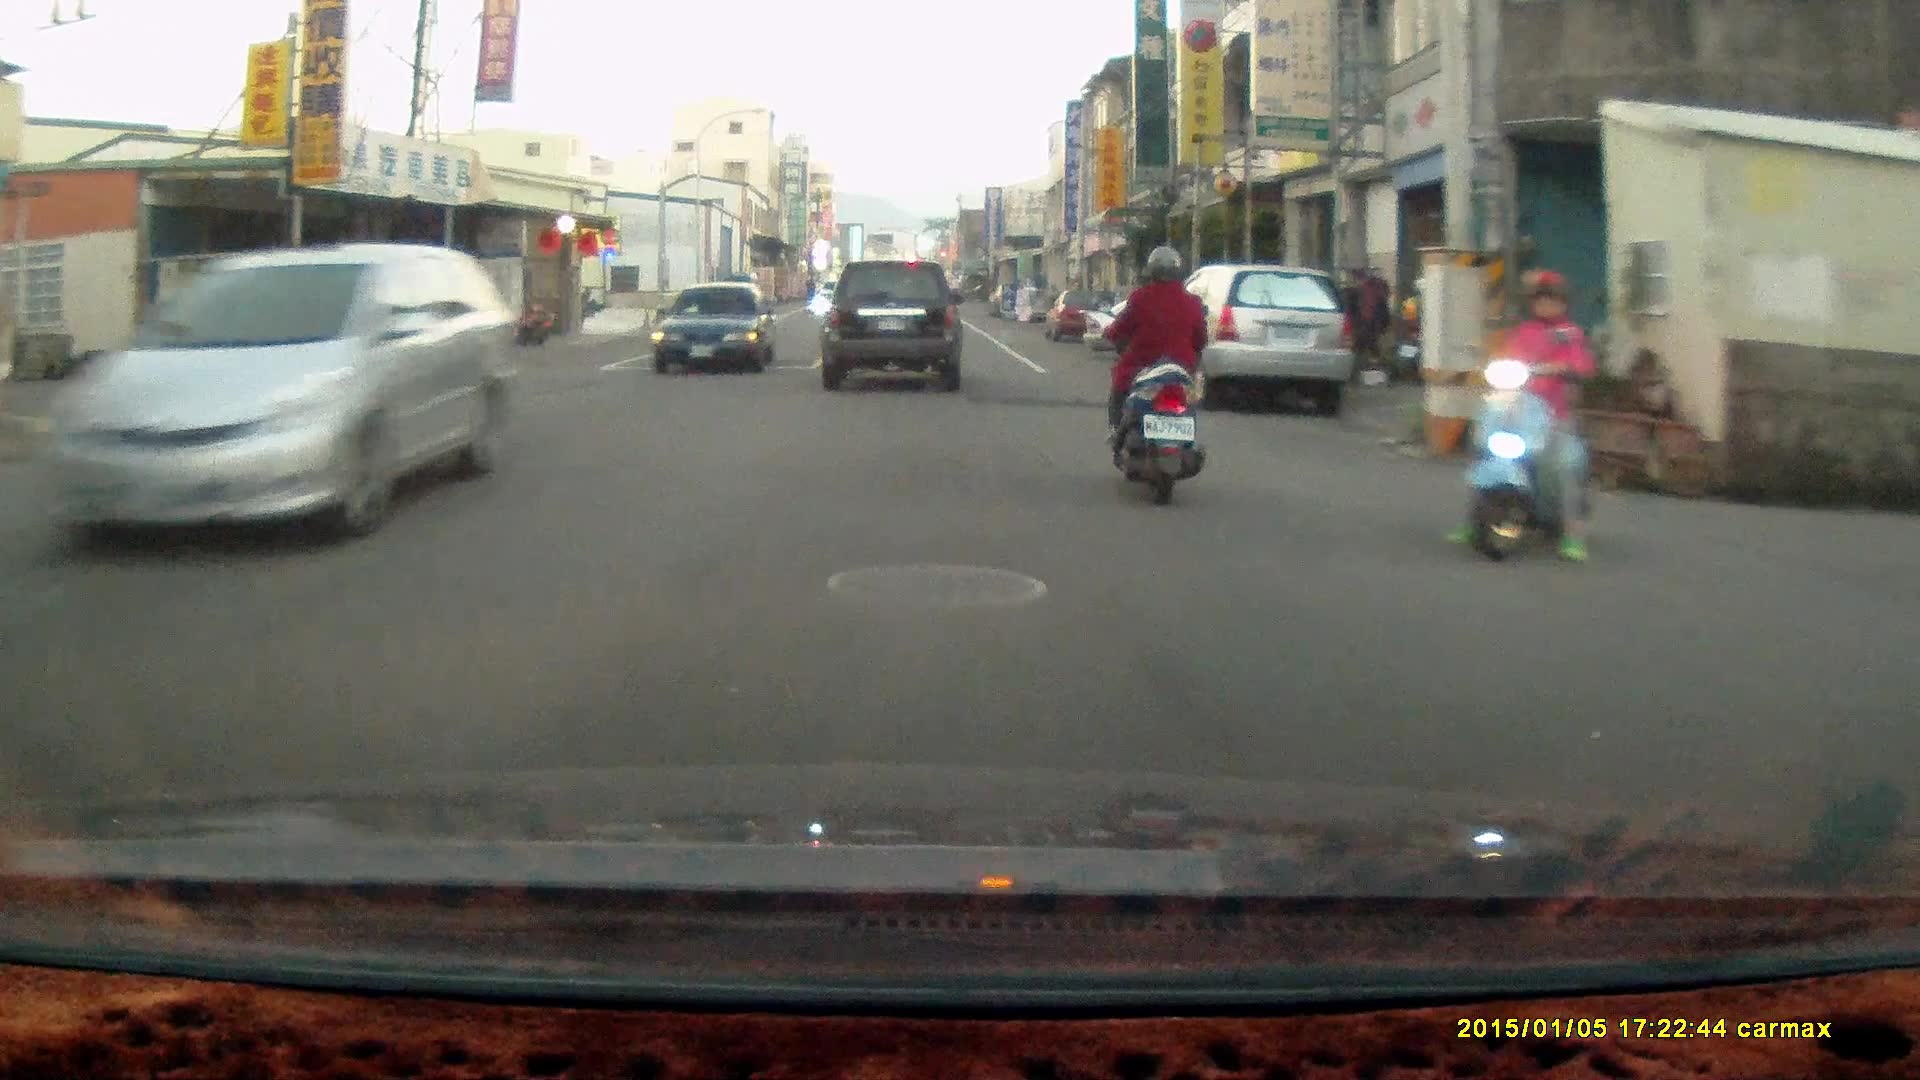rider: (1439, 268, 1595, 565), (1103, 241, 1206, 507)
vehicle: (50, 238, 524, 558), (1148, 261, 1353, 411), (821, 257, 965, 395), (657, 279, 780, 376)
